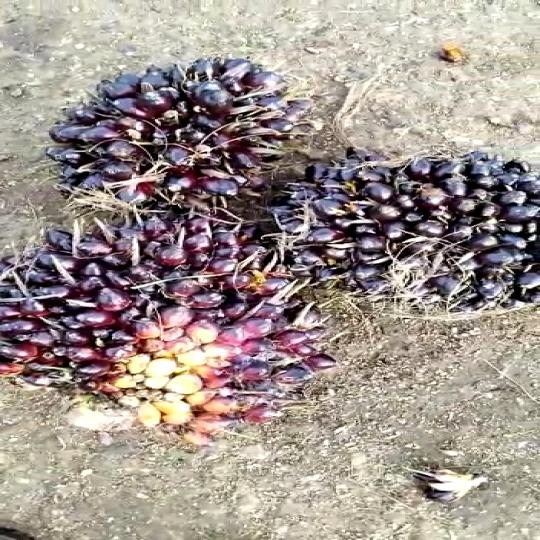mentah: (0, 183, 316, 442), (262, 134, 540, 326), (31, 44, 322, 200)
